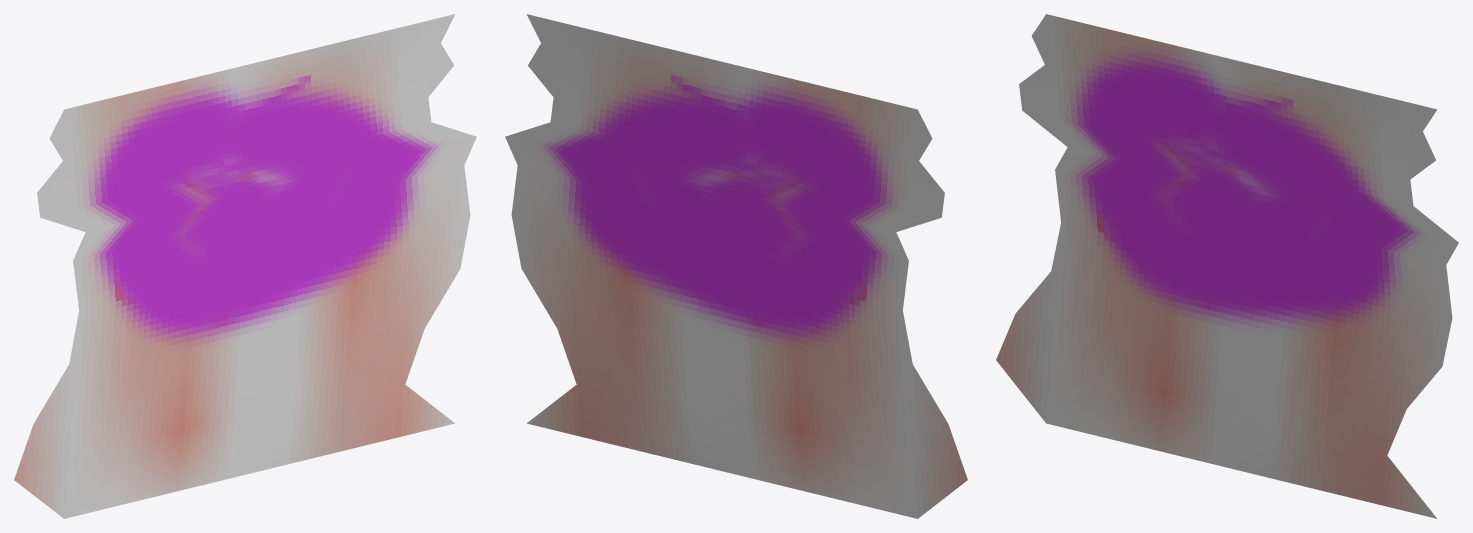
3 views of the same model, side by side, from view 1: azimuth 30°, elevation 25°; view 2: azimuth 150°, elevation 25°; view 3: azimuth 330°, elevation 25° (orthographic).
Parts seen in each view (by area): view 1: Cube; view 2: Cube; view 3: Cube.
Part boxes in pixels (x1,y1,x2,y2): Cube: (14, 14, 476, 518); Cube: (505, 14, 967, 518); Cube: (996, 14, 1458, 518).
Size of the model in its own units: 237 by 200 by 0.
1 material, 1 textured.
